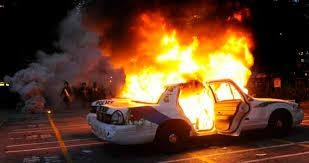fire: (108, 18, 258, 130)
